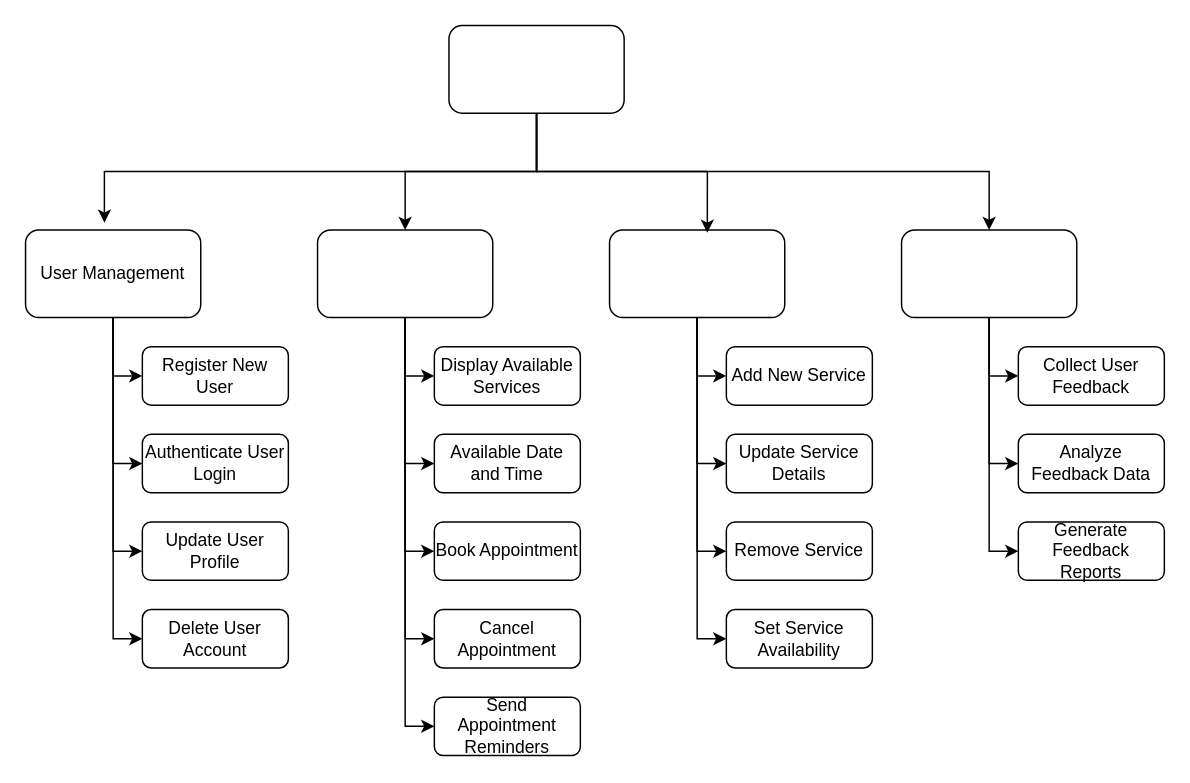
This 1190x783 diagram has some shape labels left out. The shapes that lost their labels are listed below. From the top down, each one's box as (x1, y1, x2, y2) in pixels, then its label:
(447, 24, 624, 113): Beauty Salon Management System
(316, 228, 493, 318): Appointment Management
(608, 228, 785, 318): Service Manageme
(900, 228, 1077, 318): Feedback Management
